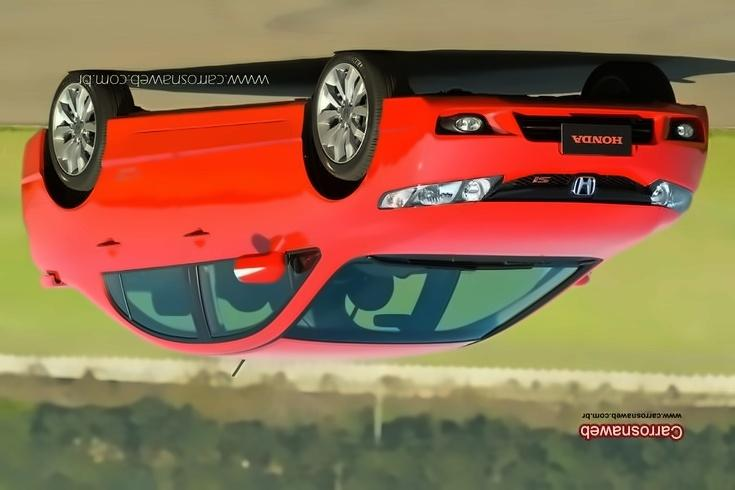Car hood: (346, 199, 683, 260)
Fender - -F-L-: (289, 97, 385, 264)
Fender - -R-L-: (17, 120, 116, 273)
Front bumper: (372, 89, 721, 185)
Headlight - -L-: (374, 163, 508, 216)
Headlight - -R-: (643, 173, 704, 215)
Passenger-s door - -F-L-: (190, 119, 328, 350)
Passenger-s door - -R-L-: (83, 120, 207, 347)
Rear bumper: (12, 123, 56, 197)
Side bumper - -L-: (102, 100, 307, 142)
Side mirror - -L-: (229, 227, 294, 289)
Side mirror - -R-: (562, 266, 602, 291)
